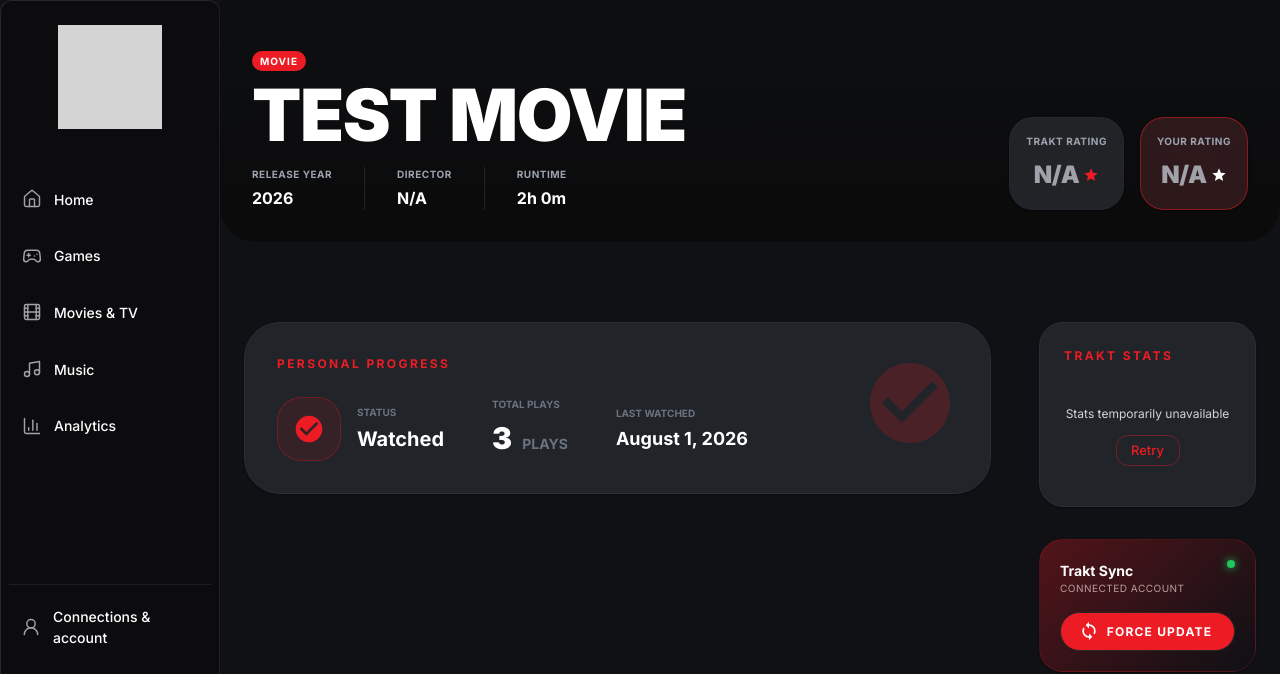
MovieDetails Trakt stats section (audit #6) › renders 'Stats temporarily unavailable' with Retry on a 503, and recovers on retry
(page scrolled)
Expected: the text "Stats temporarily unavailable" is shown, x1=1066 y1=405 x2=1229 y2=423
Click the button "Retry": x=1148, y=450 x1=1116 y1=435 x2=1180 y2=466
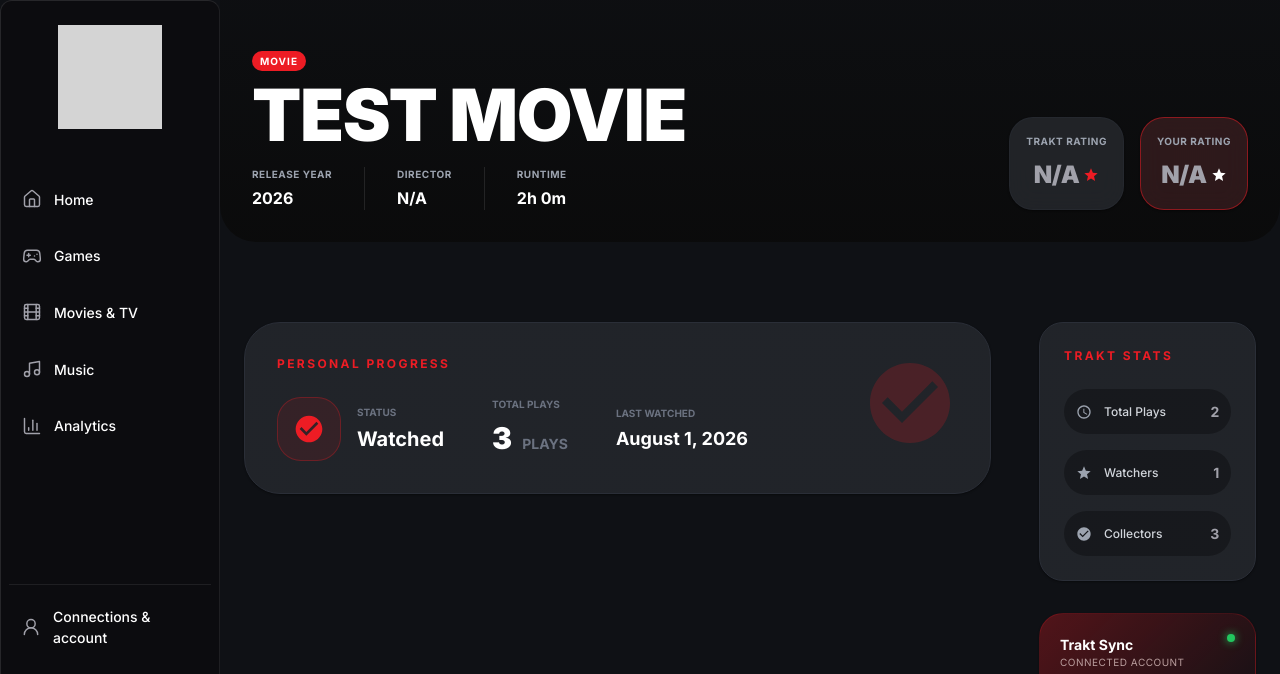
Result: the text "Stats temporarily unavailable" is gone
Result: the button "Retry" is gone
